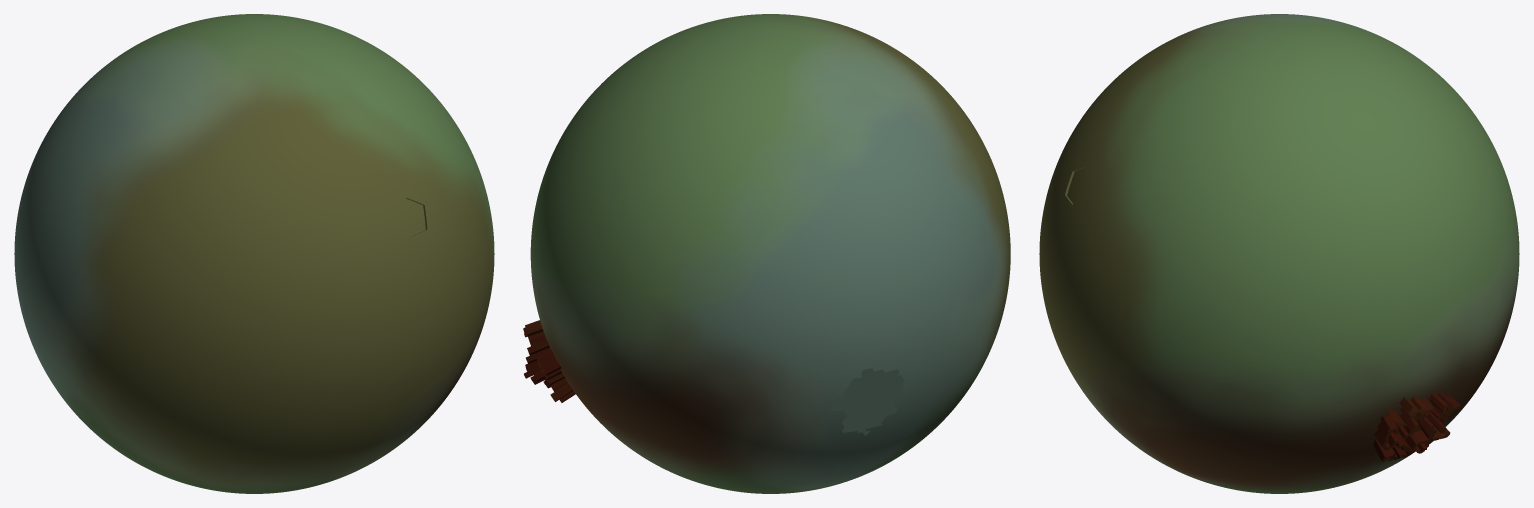
The picture shows the model from 3 angles, left to right: view 1: azimuth 30°, elevation 25°; view 2: azimuth 150°, elevation 25°; view 3: azimuth 270°, elevation 25°; orthographic projection.
Visible parts, largest first — view 1: Icosphere; view 2: Icosphere; view 3: Icosphere.
Part boxes in pixels (x1,y1,x2,y2): Icosphere: (14, 14, 494, 493); Icosphere: (523, 14, 1010, 493); Icosphere: (1039, 14, 1519, 493).
Size of the model in its own units: 20000 by 20000 by 20000.
